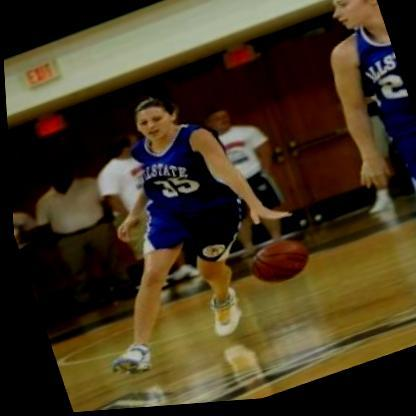basketball: (243, 235, 311, 296)
